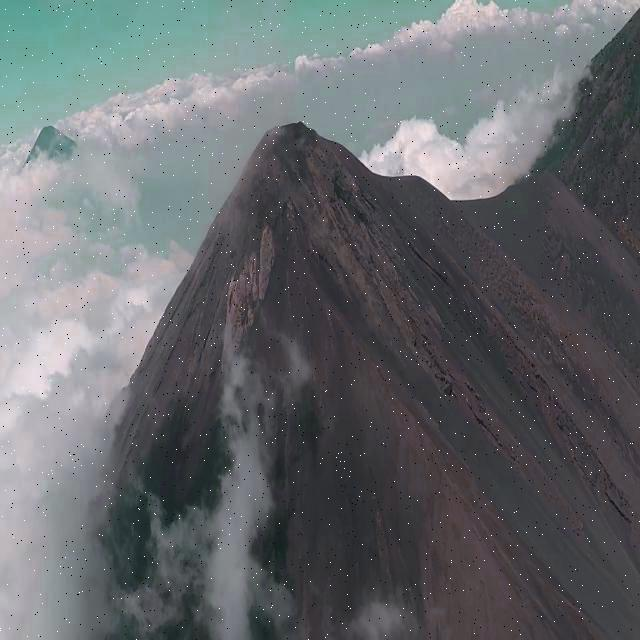Summit: (136, 109, 457, 374)
